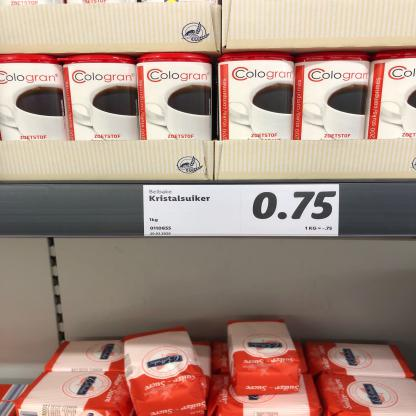prtg: (144, 186, 340, 238)
